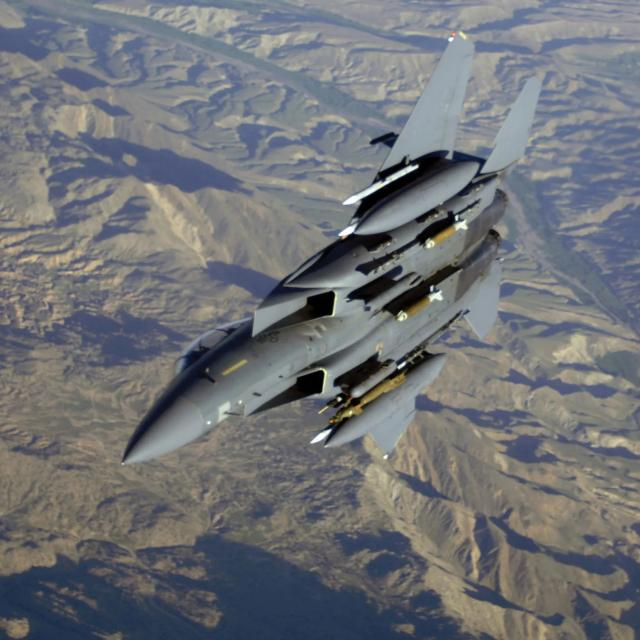F15: (7, 0, 602, 501)
